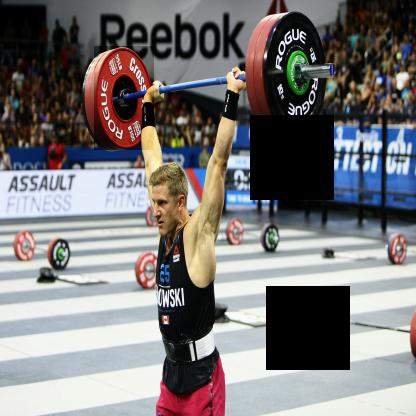barbell: (267, 12, 327, 137), (96, 47, 156, 151)
